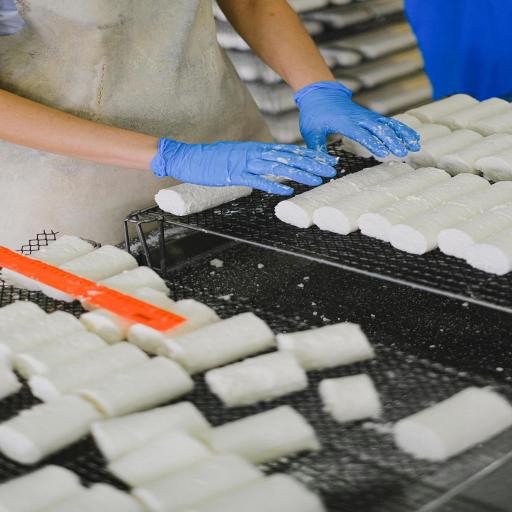Gloves: (143, 74, 440, 212)
